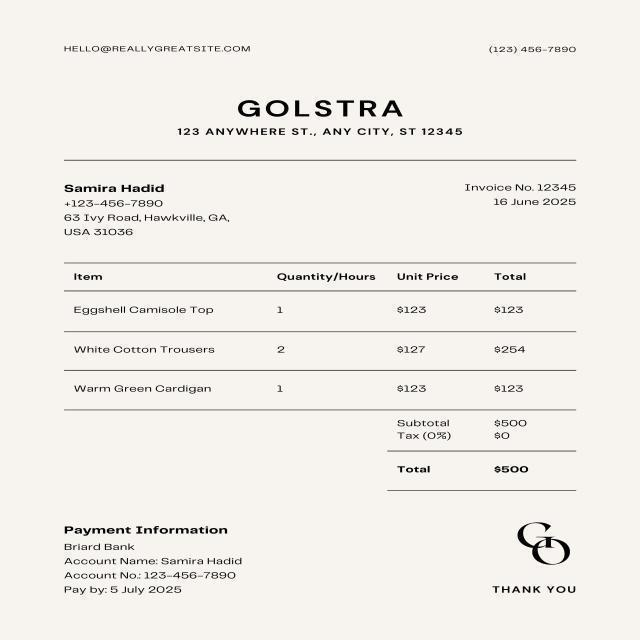paragraph: (58, 498, 262, 613), (173, 91, 472, 150), (387, 409, 578, 498), (48, 178, 243, 242), (49, 26, 278, 75), (458, 171, 594, 217), (517, 516, 578, 567), (489, 579, 589, 605), (481, 38, 593, 61)
table: (44, 264, 585, 403)
